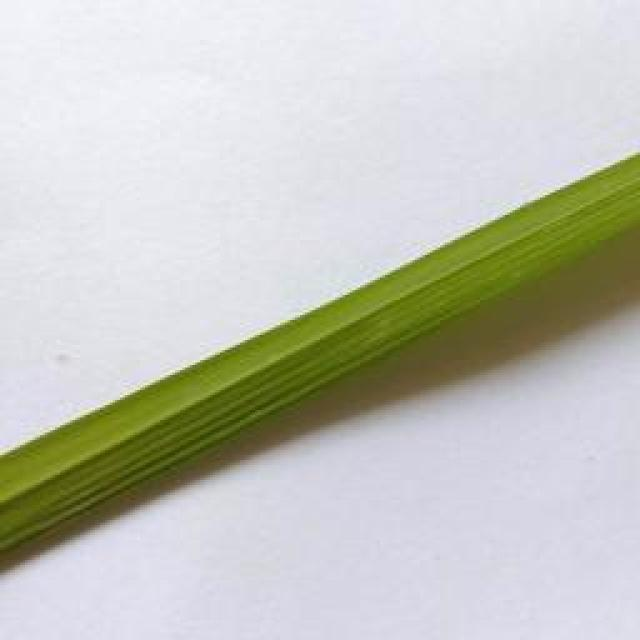Healthy-Plant: (0, 156, 640, 570)
